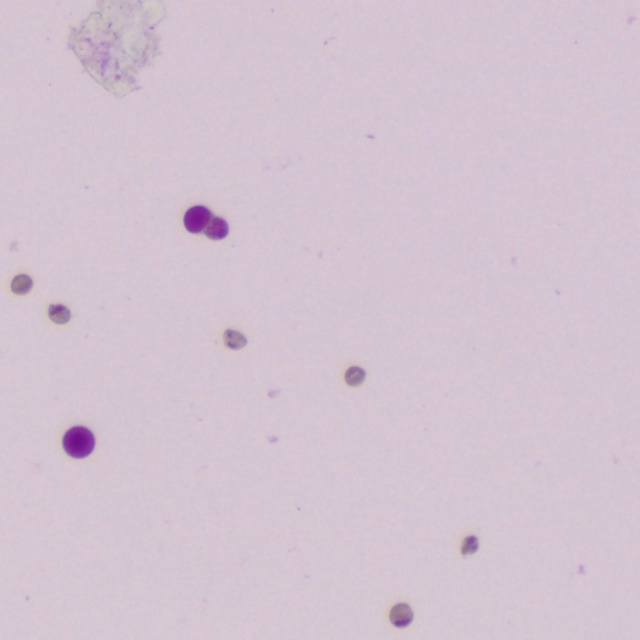intermediate: (389, 604, 412, 626), (223, 329, 246, 349), (345, 366, 364, 385)
non_viable: (11, 274, 32, 294), (48, 304, 70, 323)
viable: (63, 427, 94, 457), (185, 207, 209, 231), (204, 217, 226, 237)
